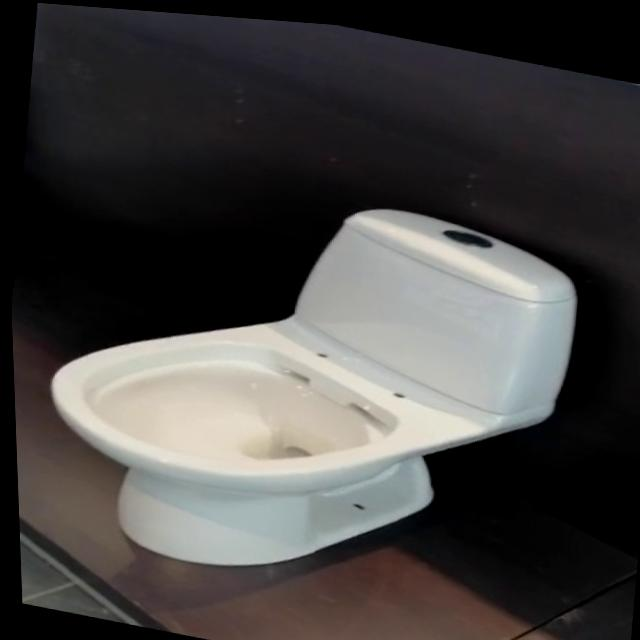toilet: (21, 139, 593, 627)
